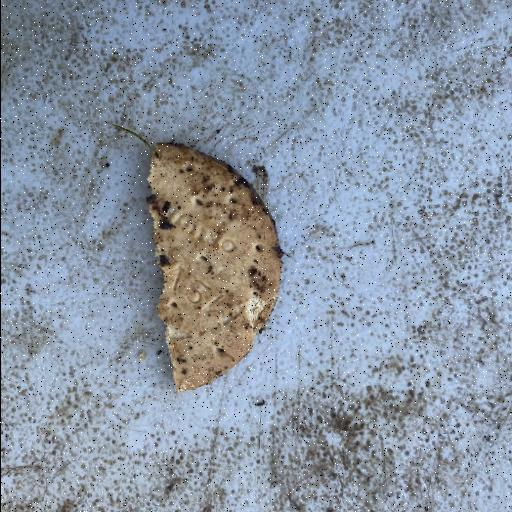Waste: (144, 140, 284, 392)
